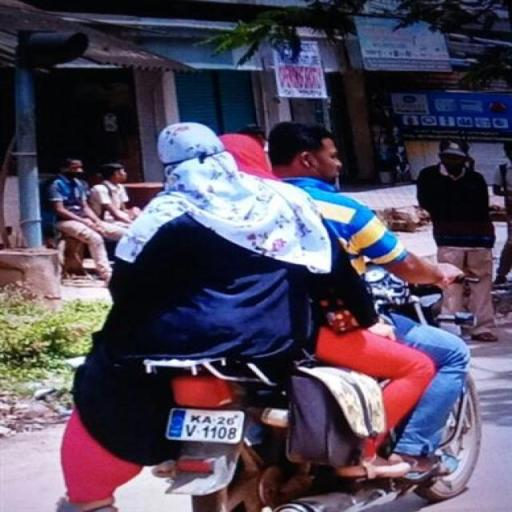tripple riding: (51, 112, 420, 344)
